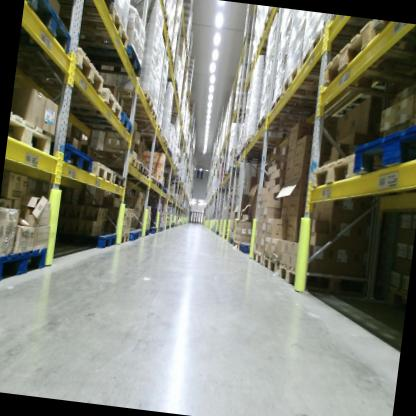pallet: (319, 16, 416, 101), (351, 110, 416, 188), (275, 258, 376, 306), (27, 38, 107, 97), (307, 143, 380, 202), (68, 0, 133, 53), (18, 0, 77, 57), (45, 81, 125, 123), (51, 101, 134, 138), (79, 39, 145, 79), (364, 20, 416, 70), (5, 109, 56, 157), (0, 238, 47, 289), (298, 21, 338, 80), (279, 61, 337, 101), (256, 104, 324, 137), (268, 89, 320, 119), (62, 225, 118, 249), (58, 143, 95, 179), (113, 86, 156, 114), (88, 147, 140, 170), (39, 0, 116, 14), (243, 131, 285, 156), (123, 100, 159, 125), (254, 29, 280, 55), (90, 156, 115, 183), (126, 117, 162, 135), (240, 143, 278, 160), (137, 129, 169, 148), (260, 253, 281, 278), (261, 7, 280, 31), (138, 0, 168, 15), (110, 168, 128, 192), (238, 239, 259, 256), (156, 11, 171, 34), (249, 249, 264, 270), (161, 34, 174, 54), (165, 48, 176, 69), (116, 231, 131, 245), (137, 161, 147, 177), (127, 229, 139, 242), (157, 144, 170, 155), (147, 225, 157, 235), (147, 174, 156, 185), (142, 228, 150, 237), (233, 238, 240, 248), (167, 149, 174, 158), (156, 180, 161, 191), (136, 228, 142, 237), (229, 236, 234, 246), (154, 179, 159, 189), (162, 187, 168, 195), (160, 183, 164, 193), (226, 236, 230, 243)
